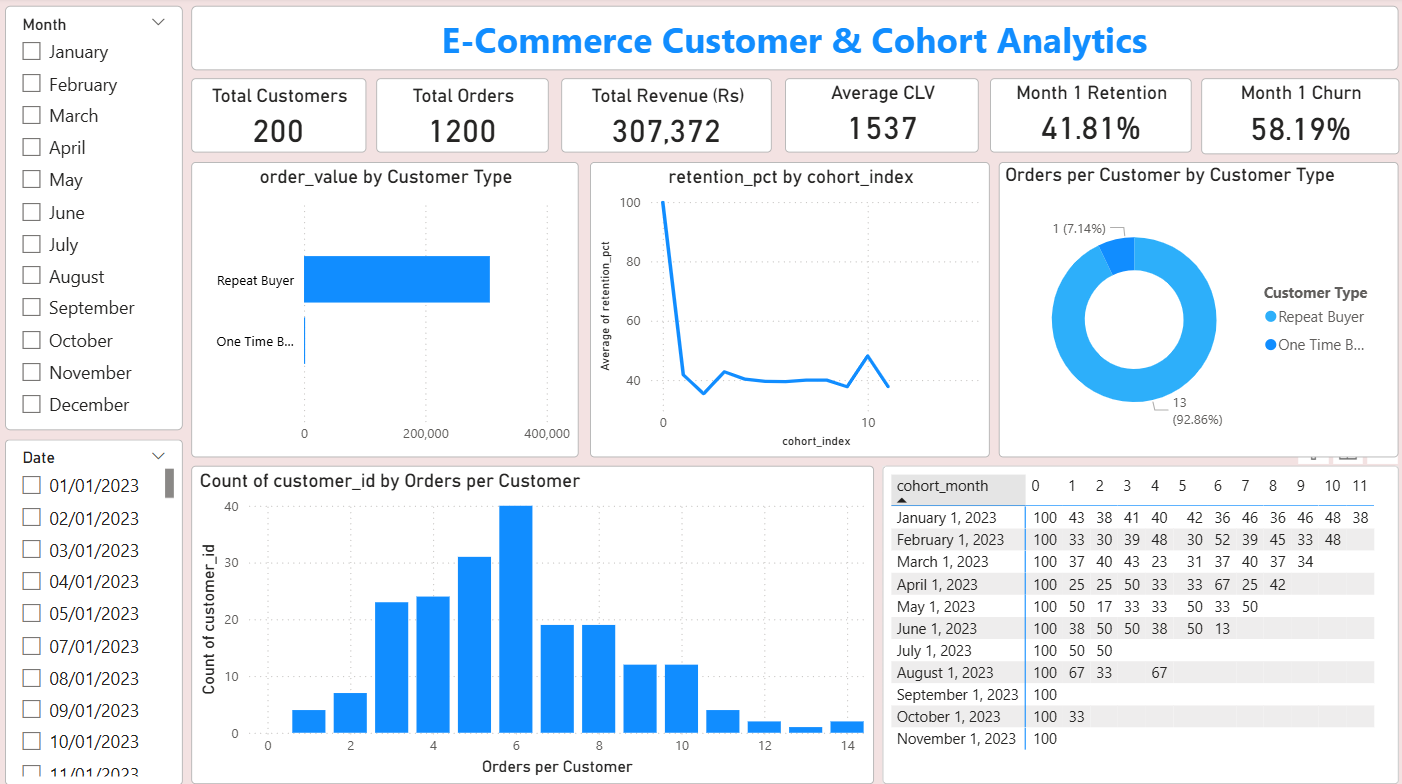

The page's visual inventory and layout, read from the dashboard file:
{"tool":"powerbi","page":{"name":"E-commerce cohort Retention Analysis","canvas":[1280,720],"ordinal":0},"visuals":[{"type":"pivotTable","fields":{"Values":["Avg(retention_matrix.retention_pct)"],"Columns":["retention_matrix.cohort_index"],"Rows":["retention_matrix.cohort_month"]},"box":[802.8,424,467,288.3],"z":0},{"type":"card","title":"Total Customers","fields":{"Values":["orders.Total Customers"]},"box":[177.9,73.3,158.1,67.4],"z":1000},{"type":"card","title":"Total Orders","fields":{"Values":["CountNonNull(orders.order_id)"]},"box":[345.3,73.3,155.8,67.4],"z":2000},{"type":"card","title":"Total Revenue (Rs)","fields":{"Values":["orders.Total Revenue"]},"box":[511.6,73.3,190.7,67.4],"z":3000},{"type":"card","title":"Average CLV","fields":{"Values":["orders.Avg CLV"]},"box":[715.1,73.3,175.6,67.4],"z":4000},{"type":"card","title":"Month 1 Retention","fields":{"Values":["retention_matrix.Month 1 Retention"]},"box":[900,73.3,182.6,67.4],"z":5000},{"type":"donutChart","title":"Orders per Customer by Customer Type","fields":{"Category":["orders.Customer Type"],"Y":["Count(orders.Orders per Customer)"]},"box":[907.9,149.2,361.8,266.8],"z":6000},{"type":"slicer","fields":{"Values":["orders.order_date.Variation.Date Hierarchy.Month"]},"box":[9.3,8.1,160.5,383.7],"z":7000},{"type":"lineChart","title":"retention_pct by cohort_index","fields":{"Y":["Avg(retention_matrix.retention_pct)"],"Category":["retention_matrix.cohort_index"]},"box":[538.2,149.2,361.8,266.8],"z":8000},{"type":"textbox","box":[177.9,8.1,1091.9,58.1],"z":9000},{"type":"barChart","title":"order_value by Customer Type","fields":{"Category":["orders.Customer Type"],"Y":["Sum(orders.order_value)"]},"box":[177.5,149.2,350.5,266.8],"z":10001},{"type":"columnChart","fields":{"Category":["orders.Orders per Customer"],"Y":["Count(orders.customer_id)"]},"box":[177.5,424,617.3,288.3],"z":10002},{"type":"card","title":"Month 1 Churn","fields":{"Values":["retention_matrix.Month 1 Churn"]},"box":[1090.7,73.3,179.1,68.6],"z":10003},{"type":"slicer","fields":{"Values":["orders.Cohort Month"]},"box":[9.3,400,160.5,312.8],"z":10004}]}

Visuals, with their boxes on the page's 1280x720 design canvas (x1, y1, x2, y2). These are canvas units, not pixel positions in the 1402x784 screenshot, which may show the page scaled, cropped or inside an application window:
pivotTable - Avg(retention_matrix.retention_pct) x retention_matrix.cohort_index: left=803, top=424, right=1270, bottom=712
"Total Customers" card: left=178, top=73, right=336, bottom=141
"Total Orders" card: left=345, top=73, right=501, bottom=141
"Total Revenue (Rs)" card: left=512, top=73, right=702, bottom=141
"Average CLV" card: left=715, top=73, right=891, bottom=141
"Month 1 Retention" card: left=900, top=73, right=1083, bottom=141
"Orders per Customer by Customer Type" donutChart: left=908, top=149, right=1270, bottom=416
slicer - orders.order_date.Variation.Date Hierarchy.Month: left=9, top=8, right=170, bottom=392
"retention_pct by cohort_index" lineChart: left=538, top=149, right=900, bottom=416
textbox: left=178, top=8, right=1270, bottom=66
"order_value by Customer Type" barChart: left=178, top=149, right=528, bottom=416
columnChart - orders.Orders per Customer x Count(orders.customer_id): left=178, top=424, right=795, bottom=712
"Month 1 Churn" card: left=1091, top=73, right=1270, bottom=142
slicer - orders.Cohort Month: left=9, top=400, right=170, bottom=713
